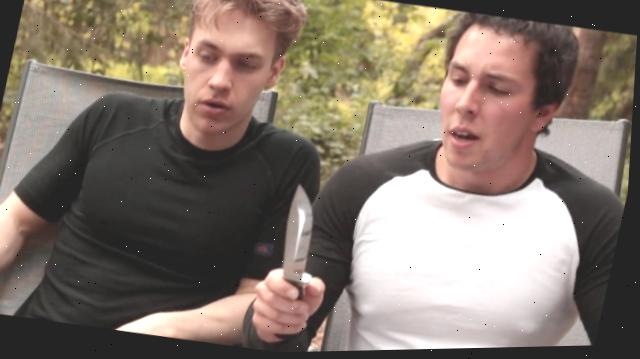pocket-knife: (246, 173, 357, 334)
